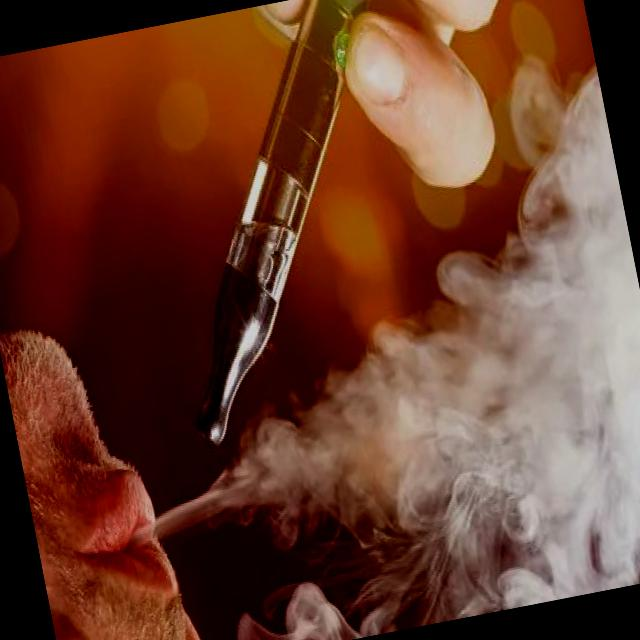cigarette: (119, 0, 465, 457)
